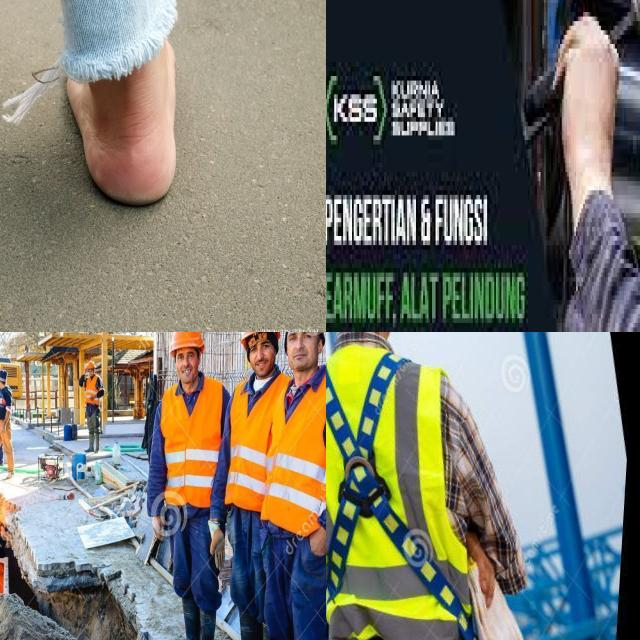Barefoots: (66, 39, 177, 207)
Harness: (326, 352, 477, 640)
boots: (222, 596, 270, 640), (168, 596, 200, 640), (193, 597, 218, 640), (83, 434, 95, 452), (92, 436, 103, 454)
face_nomask: (288, 332, 317, 367), (251, 333, 274, 369), (177, 349, 199, 377)
hand_glove: (204, 520, 230, 570)
hand_noglove: (146, 511, 170, 548)
head_helmet: (168, 332, 202, 349), (83, 360, 98, 368)
person: (156, 332, 227, 640), (226, 332, 277, 640), (280, 332, 326, 640), (78, 362, 107, 454), (0, 369, 15, 475)
vest: (227, 371, 281, 509), (278, 378, 326, 531), (160, 384, 220, 499), (82, 376, 104, 404)
